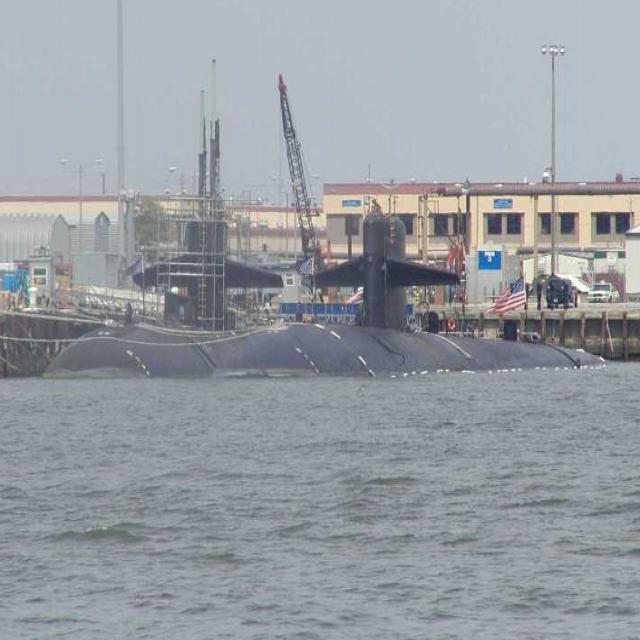submarine: (30, 216, 617, 371)
